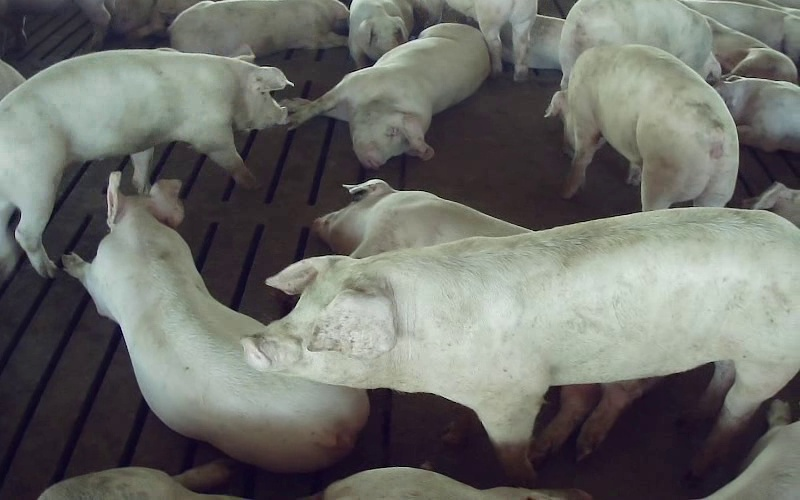pig: (243, 209, 799, 479), (63, 173, 367, 470), (0, 49, 289, 282), (546, 46, 738, 210), (289, 23, 489, 168), (559, 0, 720, 88), (168, 0, 348, 56)
